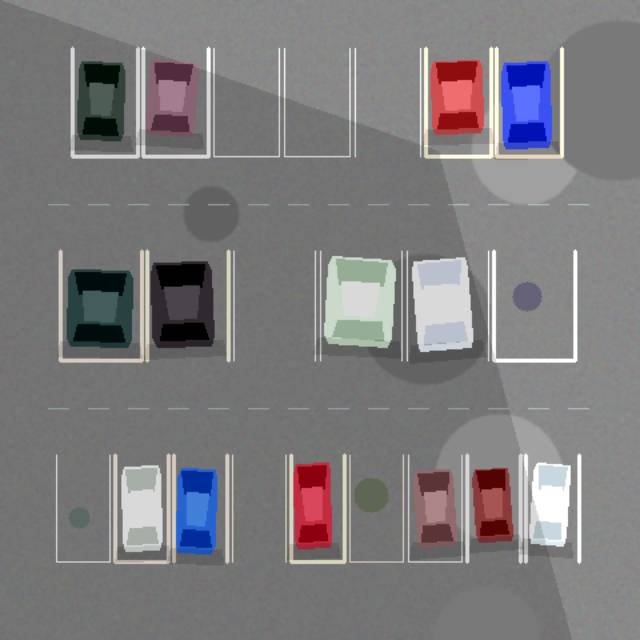space-empty: (233, 251, 315, 360), (493, 251, 575, 360), (213, 48, 279, 156), (284, 48, 349, 156), (355, 48, 420, 156), (349, 455, 403, 561), (56, 455, 109, 561), (232, 455, 285, 561)
space-occupied: (60, 251, 141, 360), (147, 251, 228, 360), (320, 251, 401, 360), (407, 251, 488, 360), (425, 48, 491, 156), (72, 48, 137, 156), (143, 48, 208, 156), (496, 48, 561, 156), (173, 455, 227, 561), (525, 455, 579, 561), (115, 455, 168, 561), (291, 455, 344, 561), (408, 455, 461, 561), (467, 455, 520, 561)
